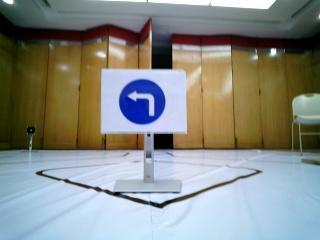left: (106, 74, 180, 132)
